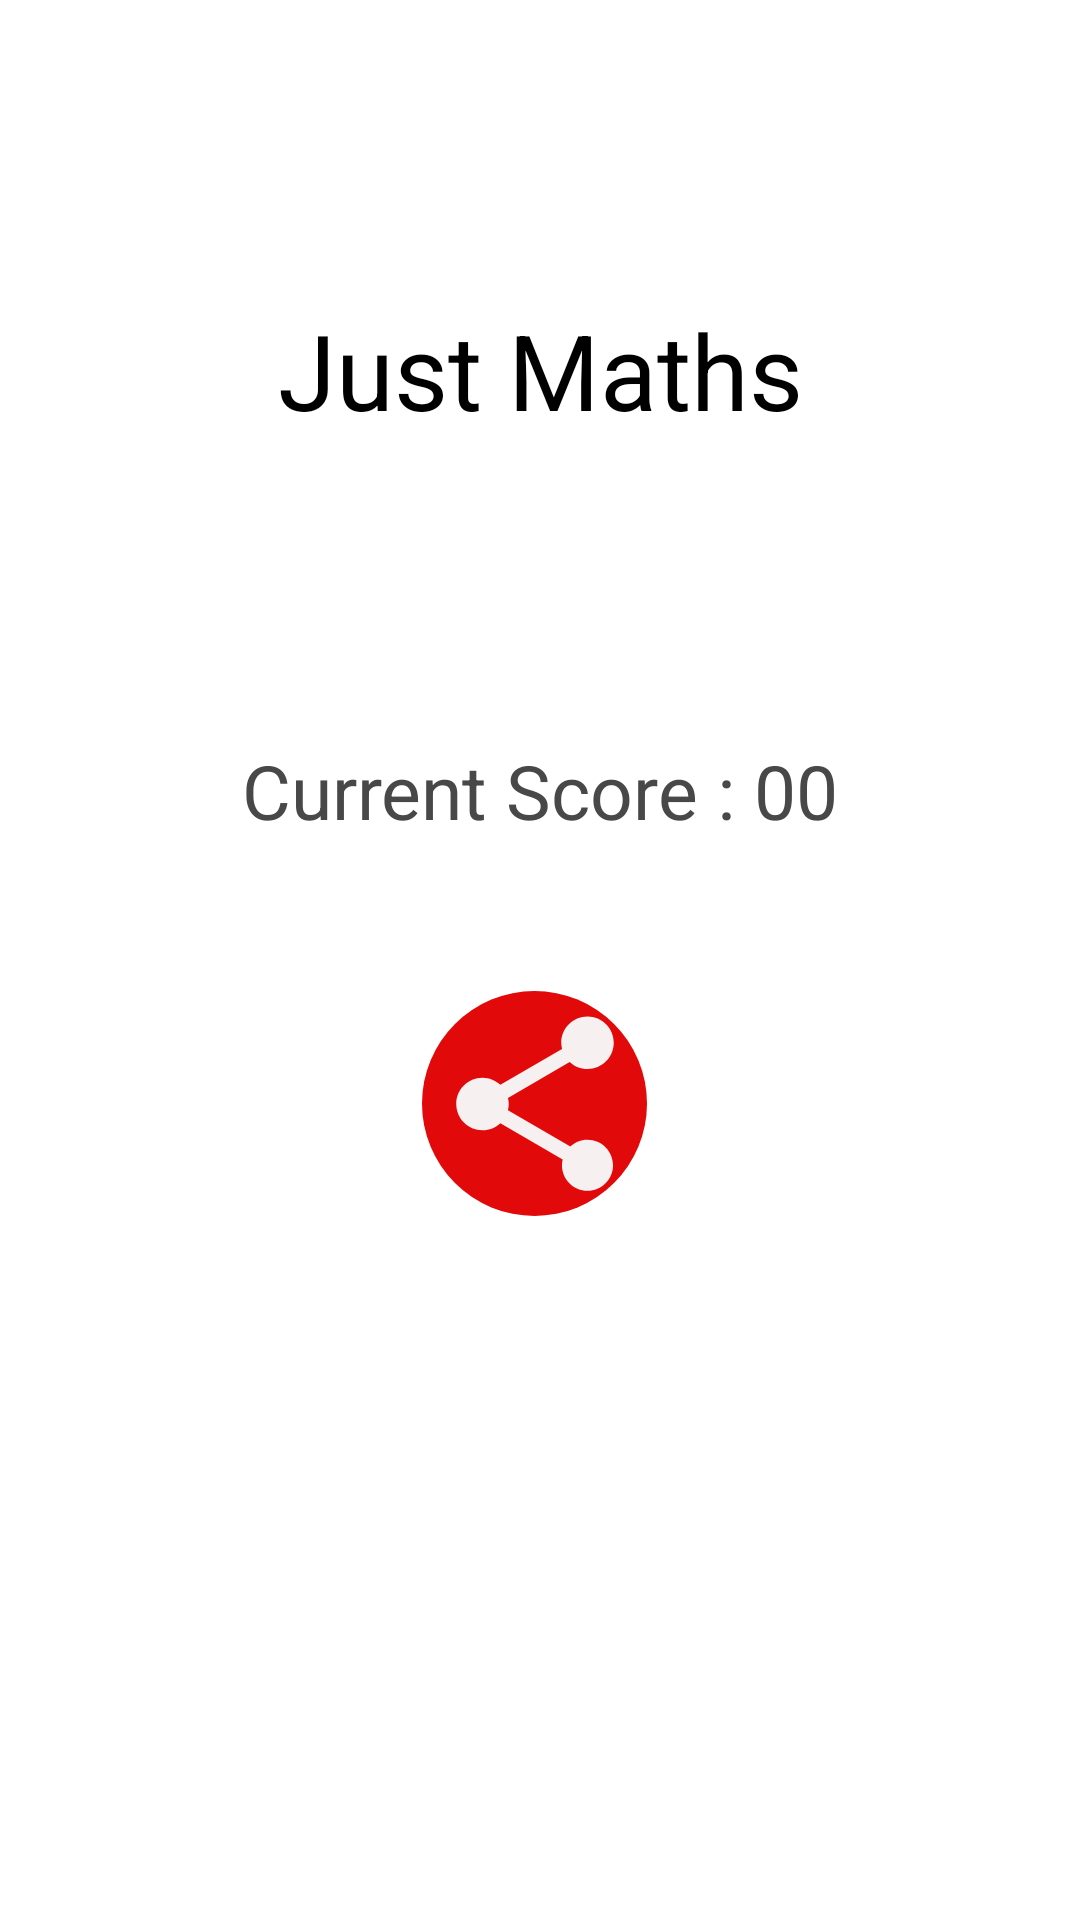

Point at icon controls on the screen. Image size 1080w x 1920h, points as point (x, y).
share: point (534, 1103)
